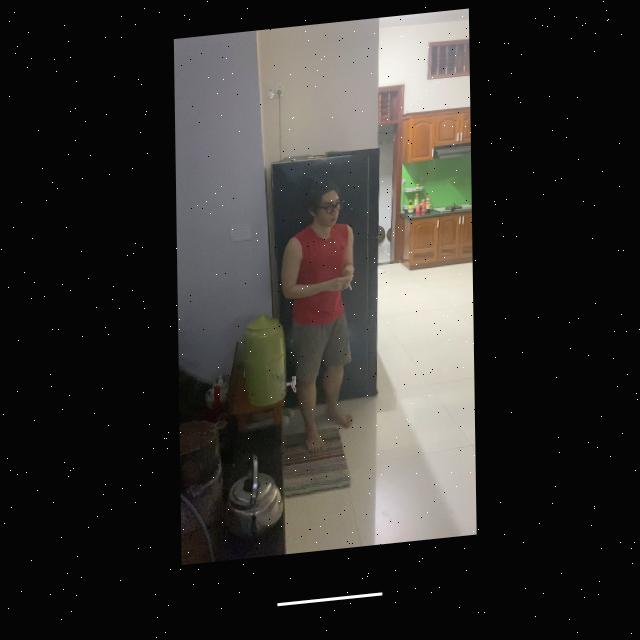cigarette: (347, 289, 351, 299)
